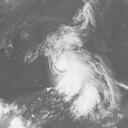cyclone: (44, 37, 108, 112)
